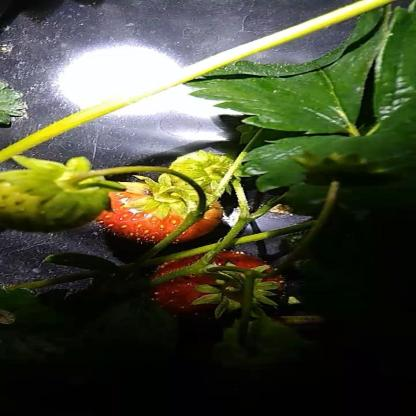ripe: (153, 253, 287, 315), (102, 180, 220, 242)
unripe: (0, 162, 102, 230), (164, 146, 251, 188)
